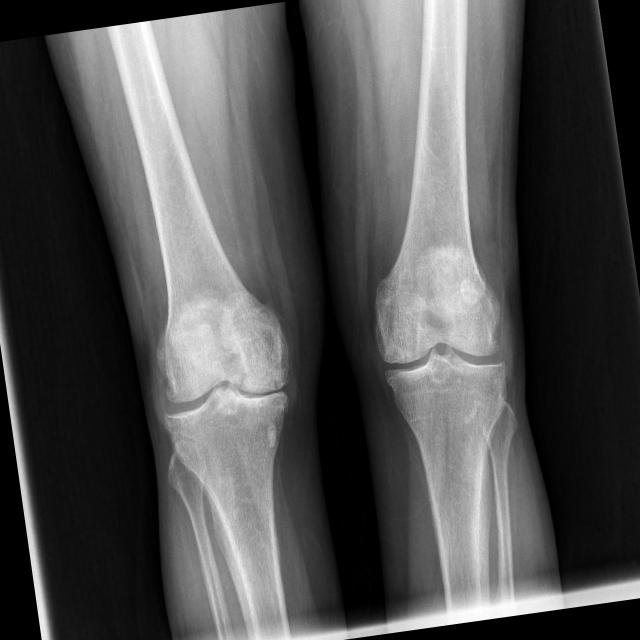Knee: (146, 320, 302, 455), (369, 292, 514, 435)
